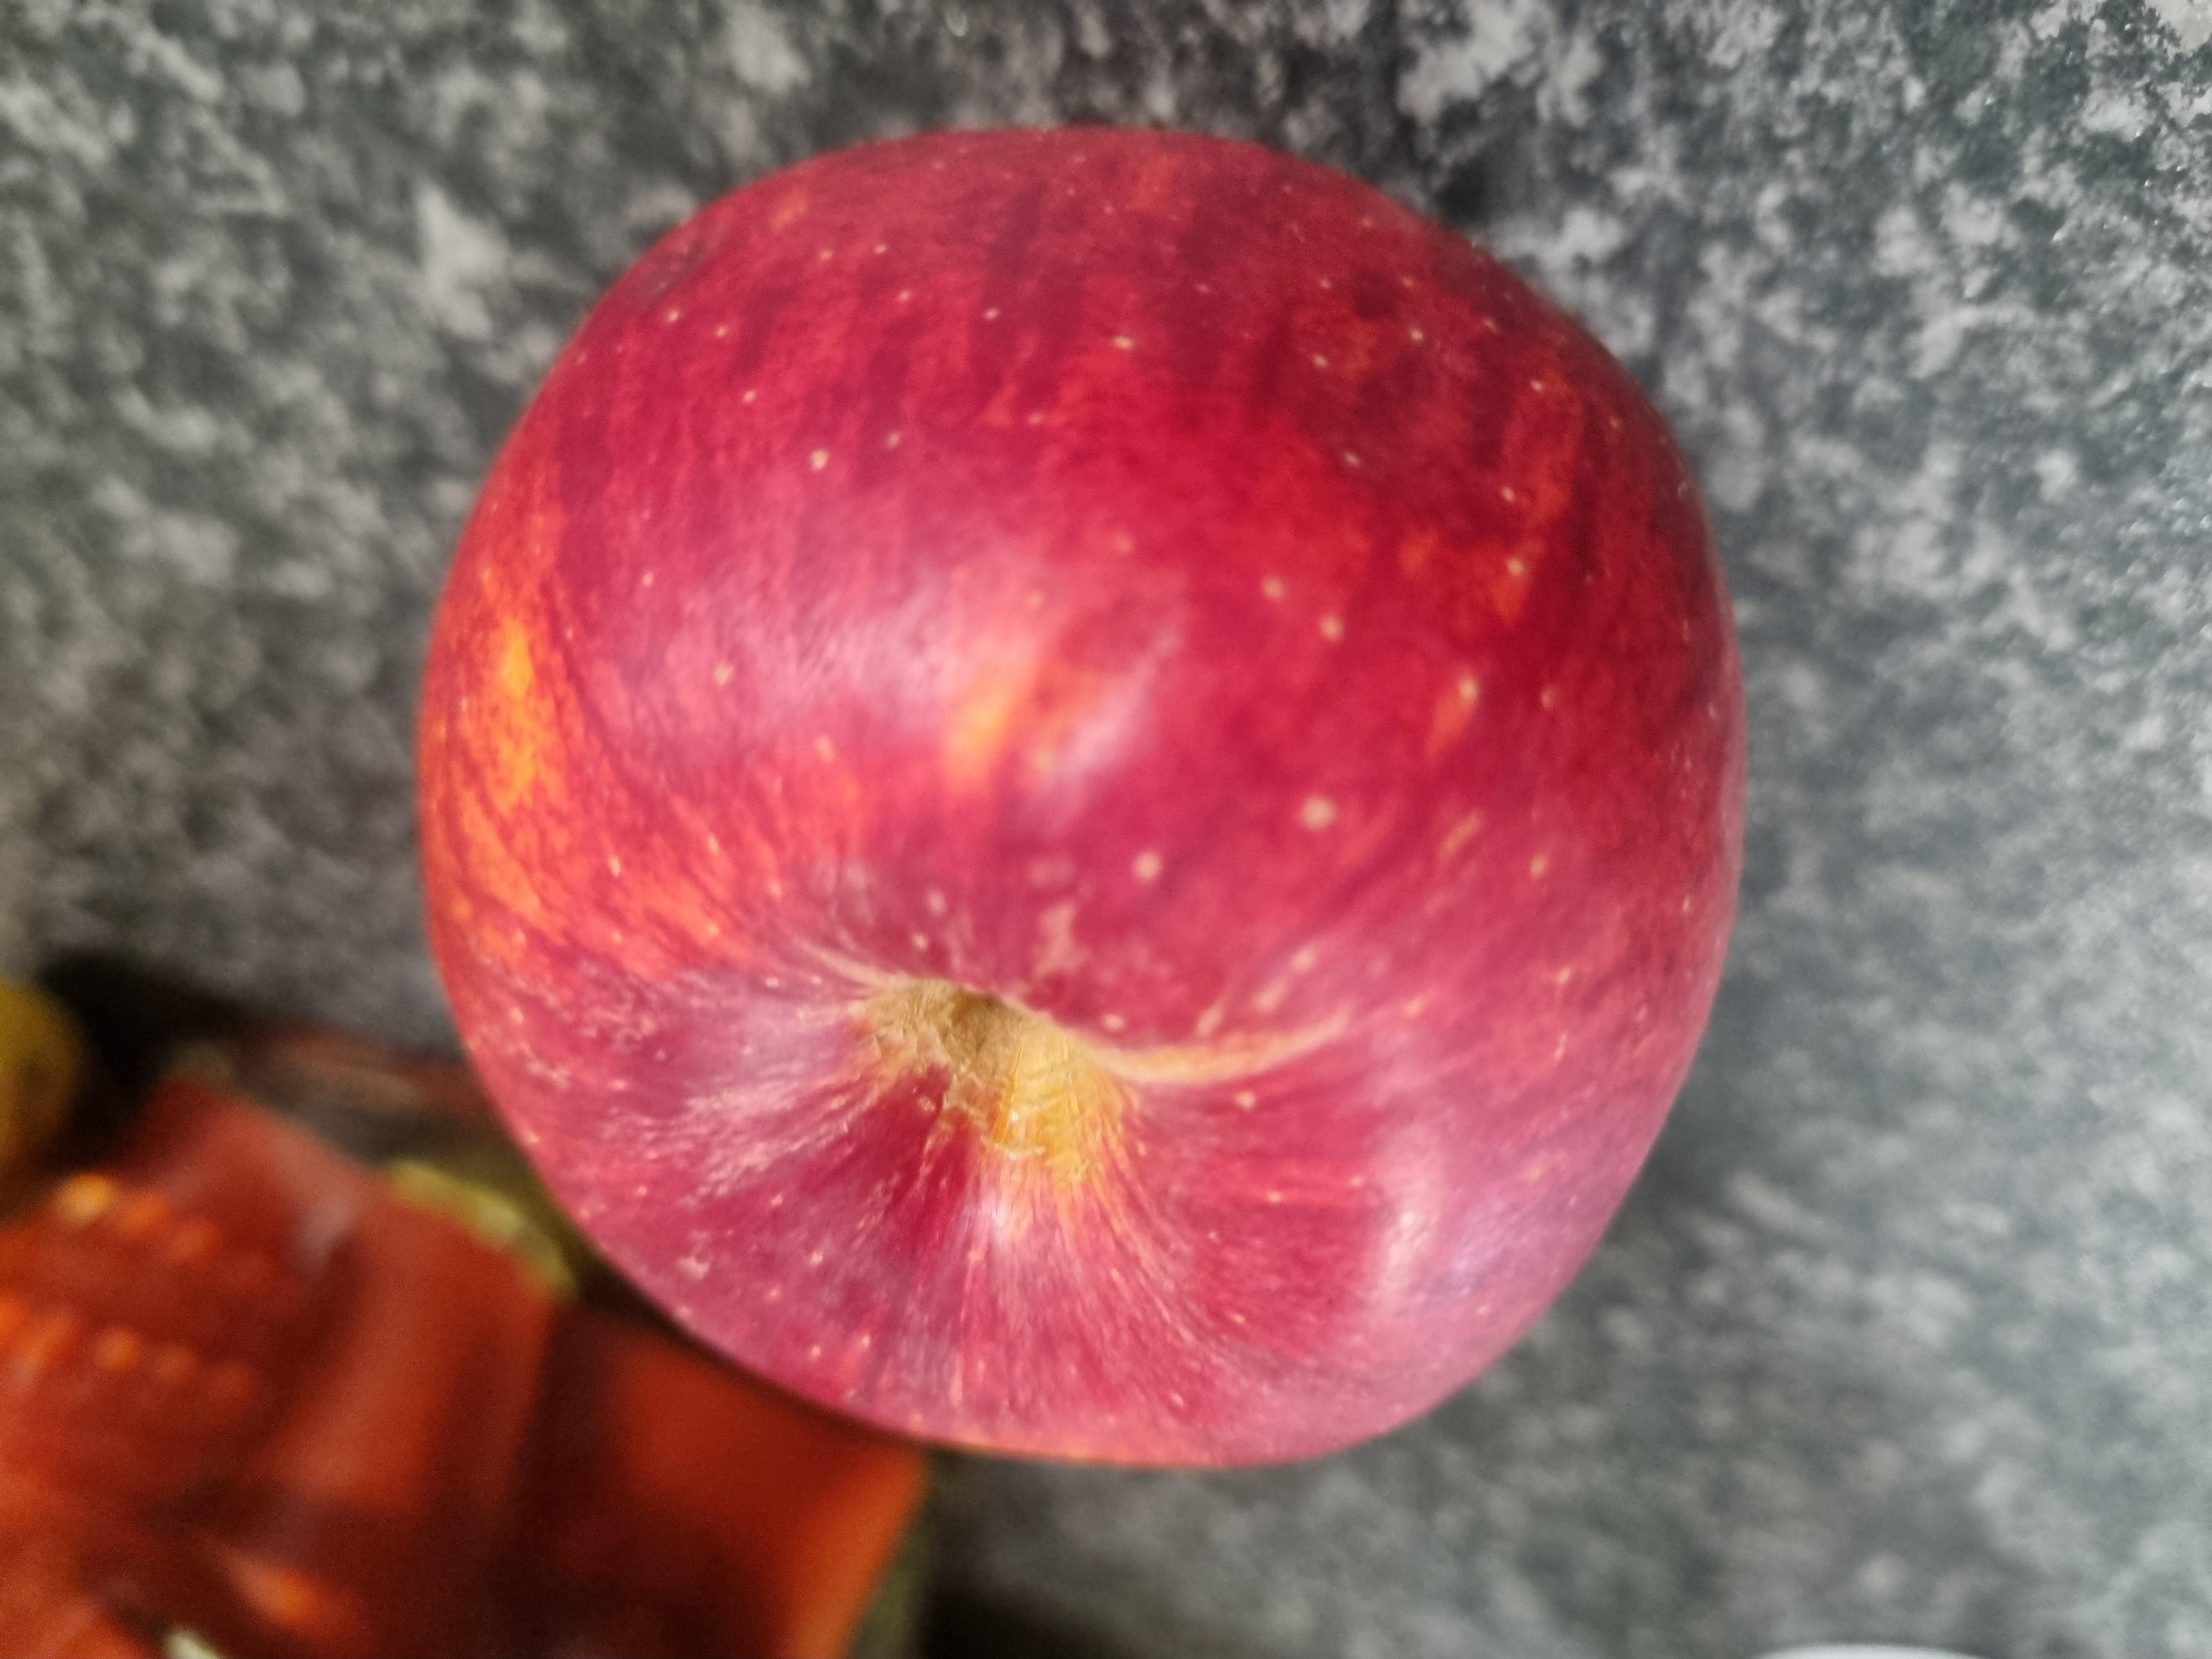Apple: (460, 171, 1803, 1544)
